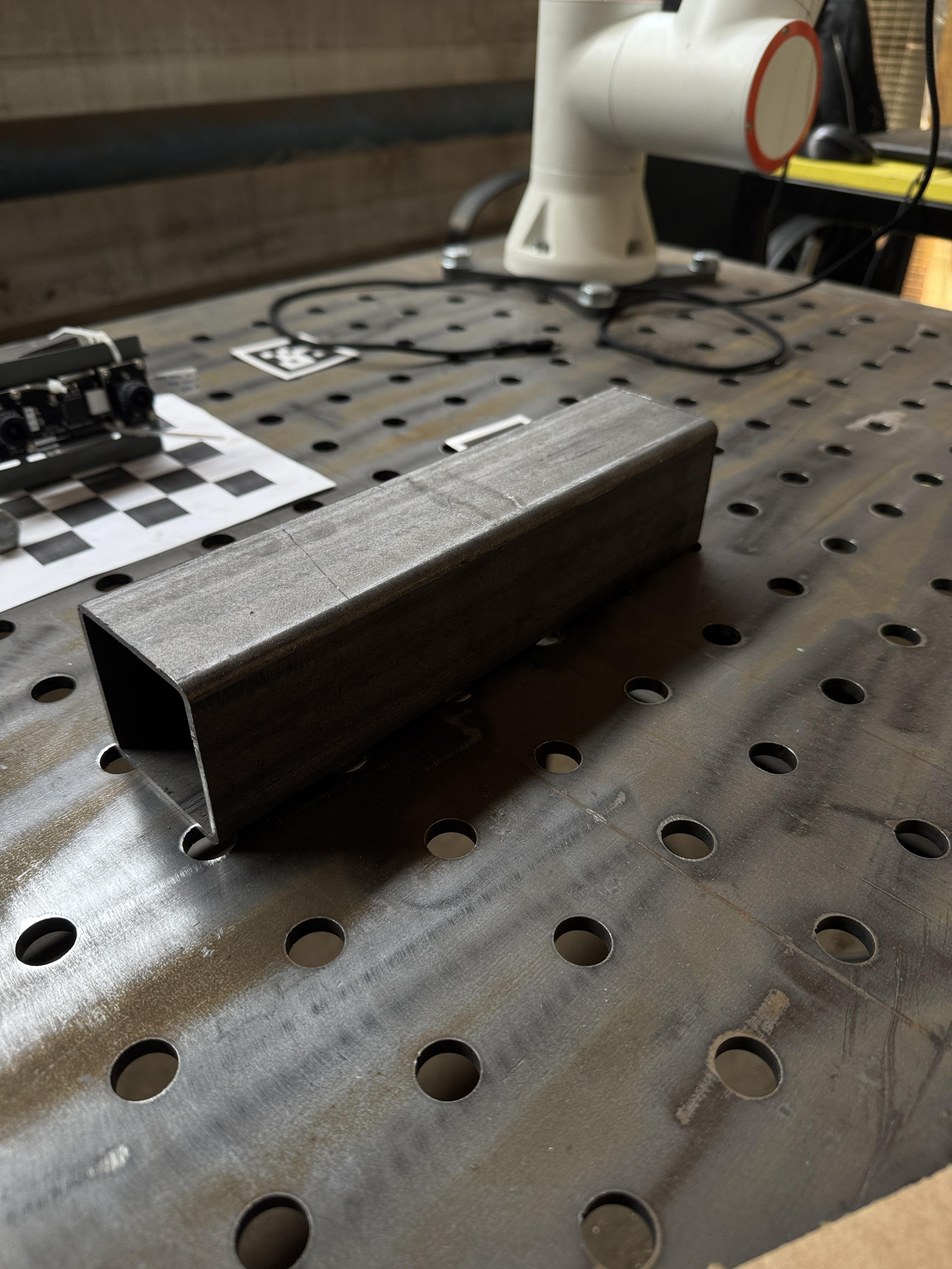detail: (77, 384, 718, 847)
